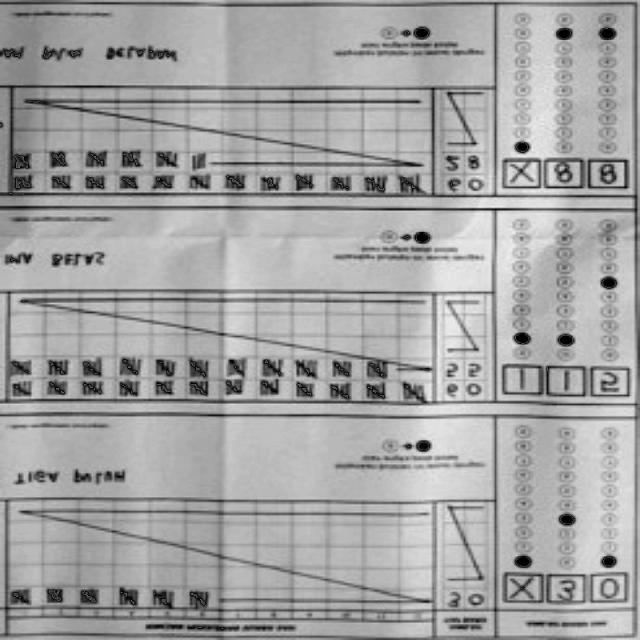Suara: (500, 570, 630, 610), (500, 157, 630, 194), (498, 366, 630, 402)
